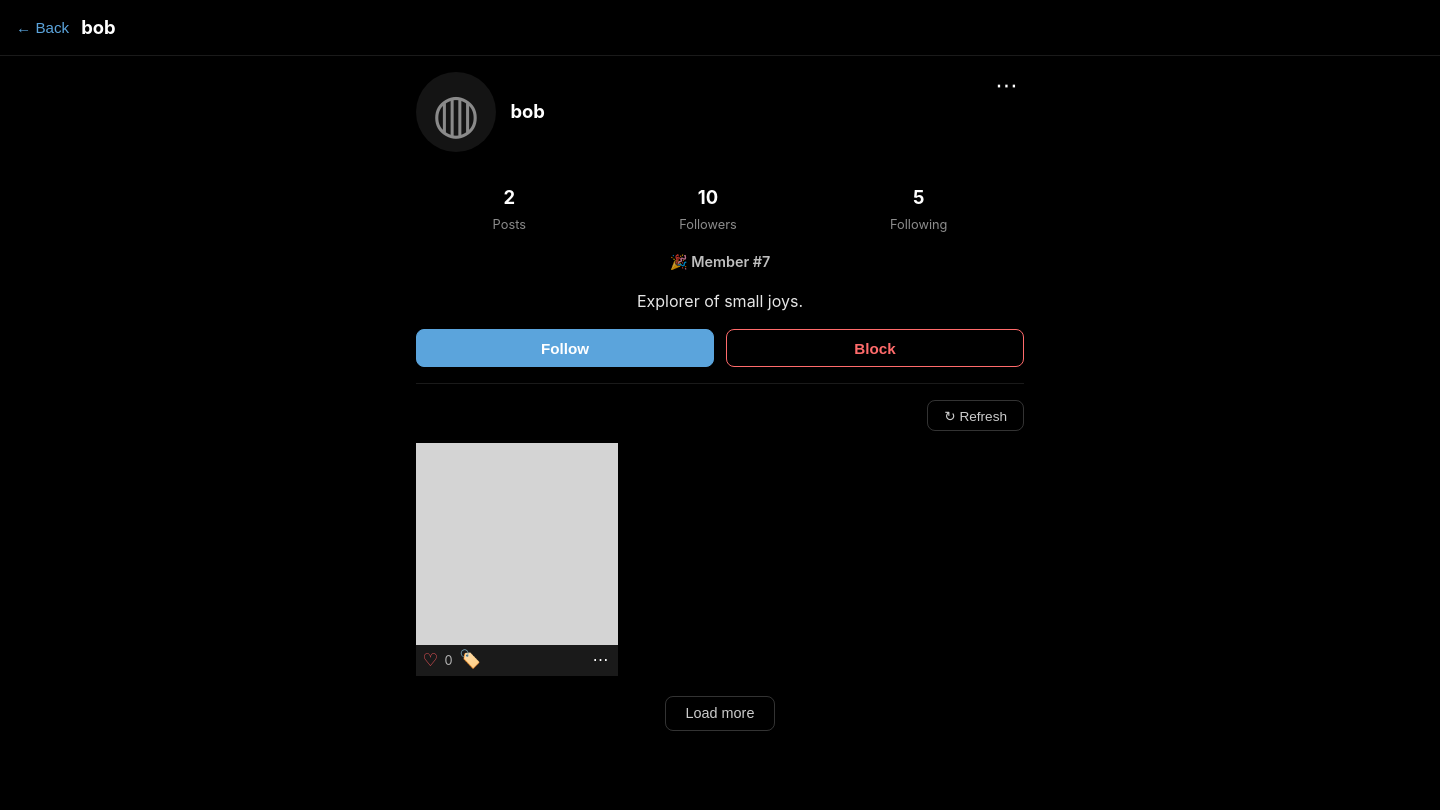
Test: reports a post from the grid
This screenshot has width=1440, height=810.
Click the button named "Options for post by bob": (600,660) x1=589 y1=652 x2=612 y2=668
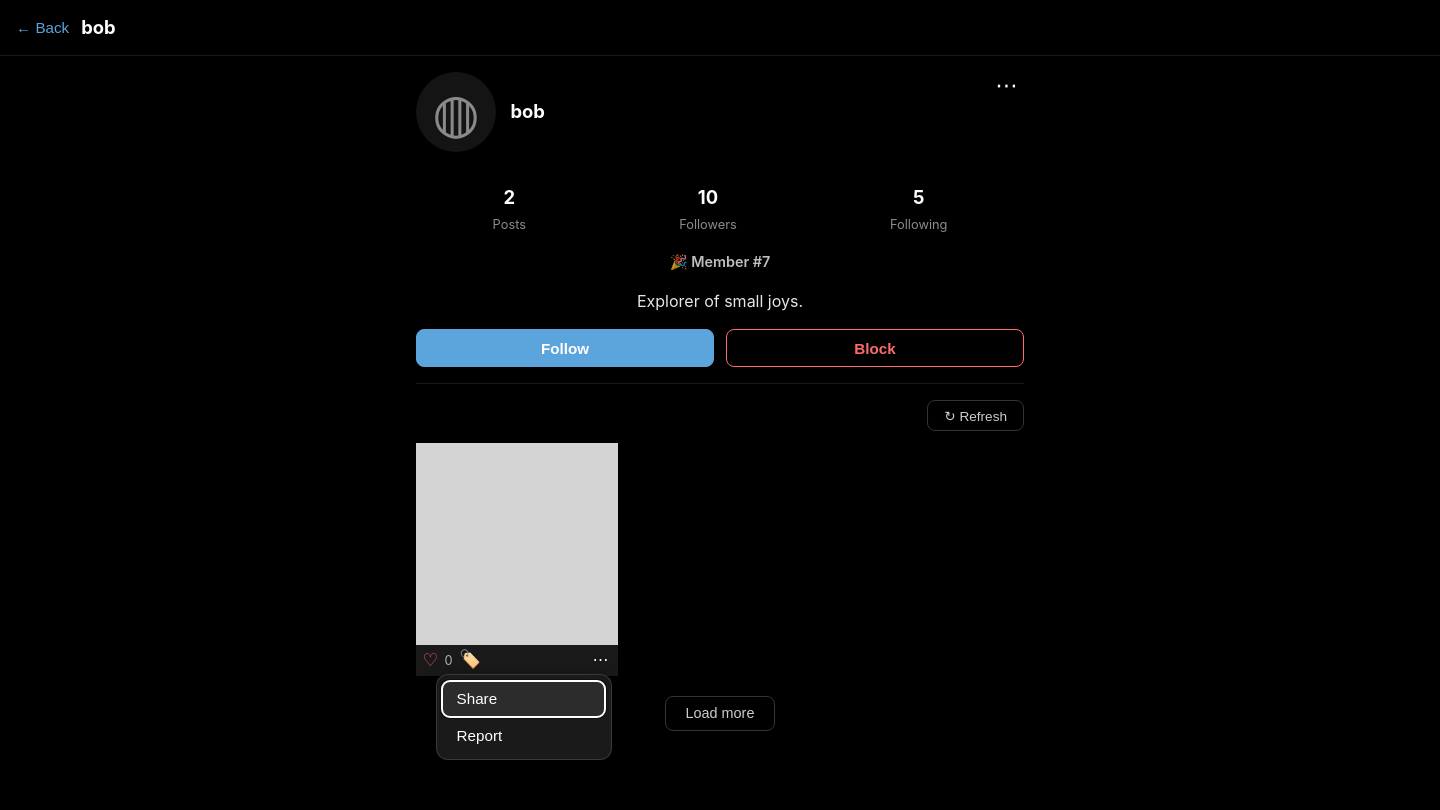
Click the menu item "Report": (524,735) x1=442 y1=717 x2=605 y2=753
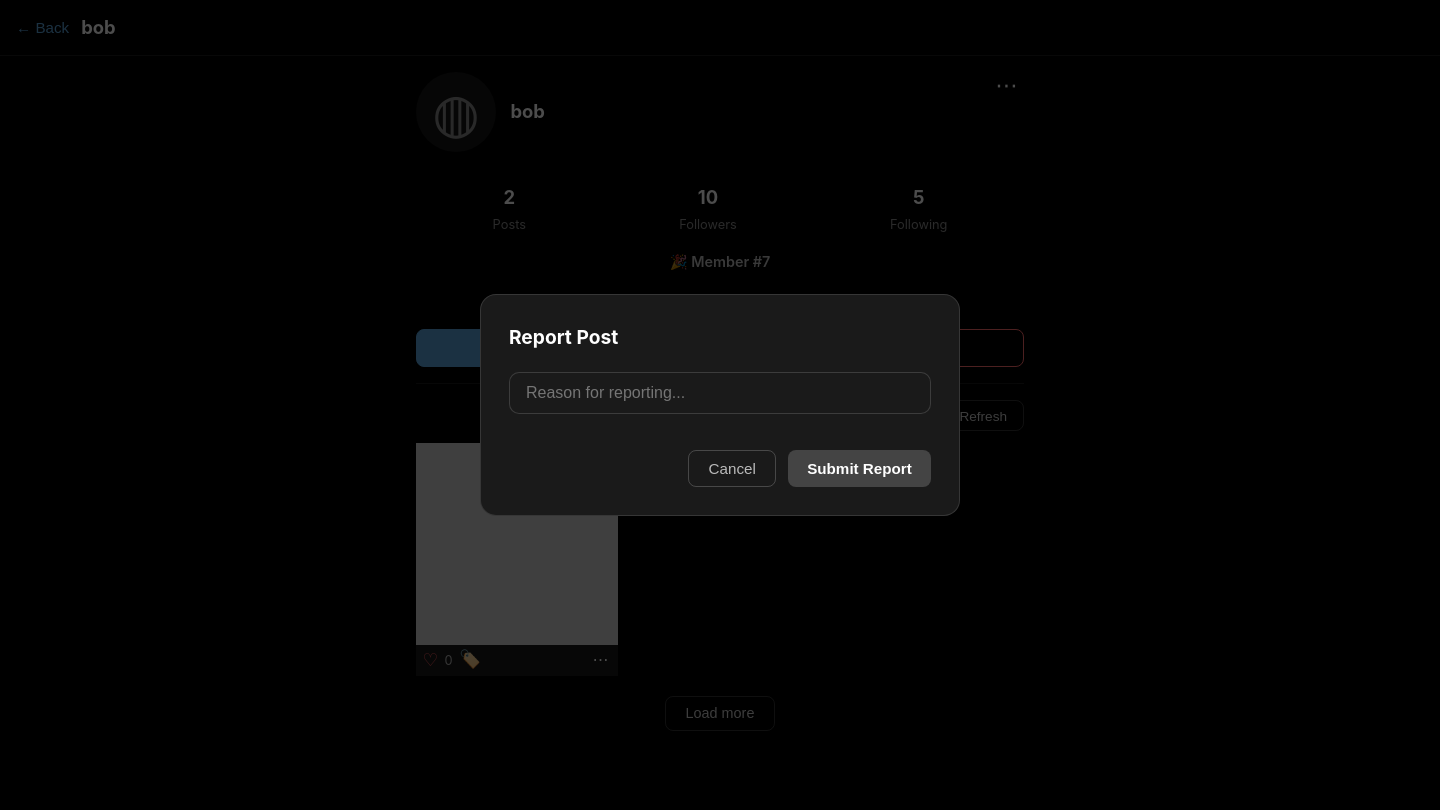
In the field labelled "Reason for reporting": (720,393) x1=509 y1=372 x2=931 y2=414, type "mean"
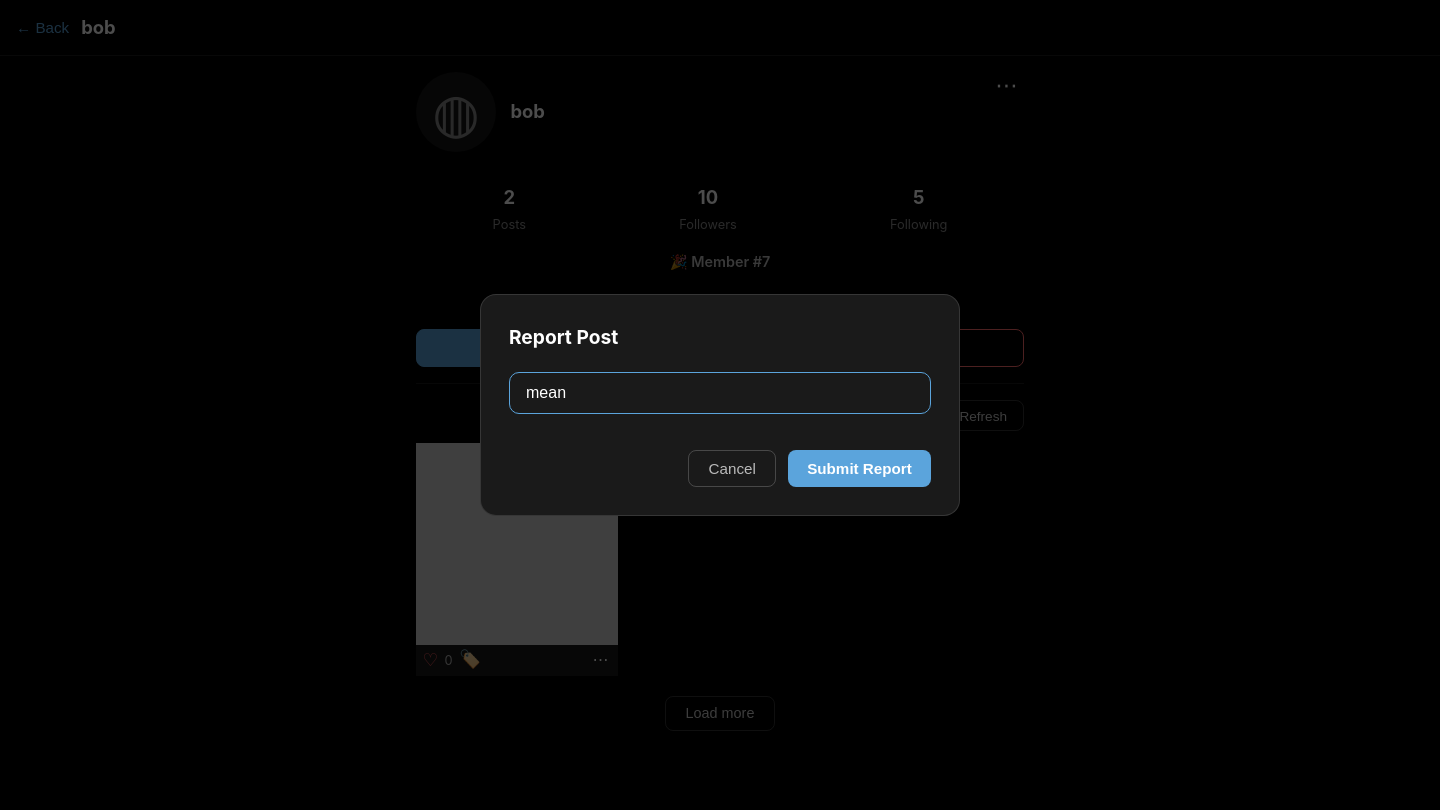
Click the button "Submit Report": (860,469) x1=788 y1=450 x2=931 y2=487
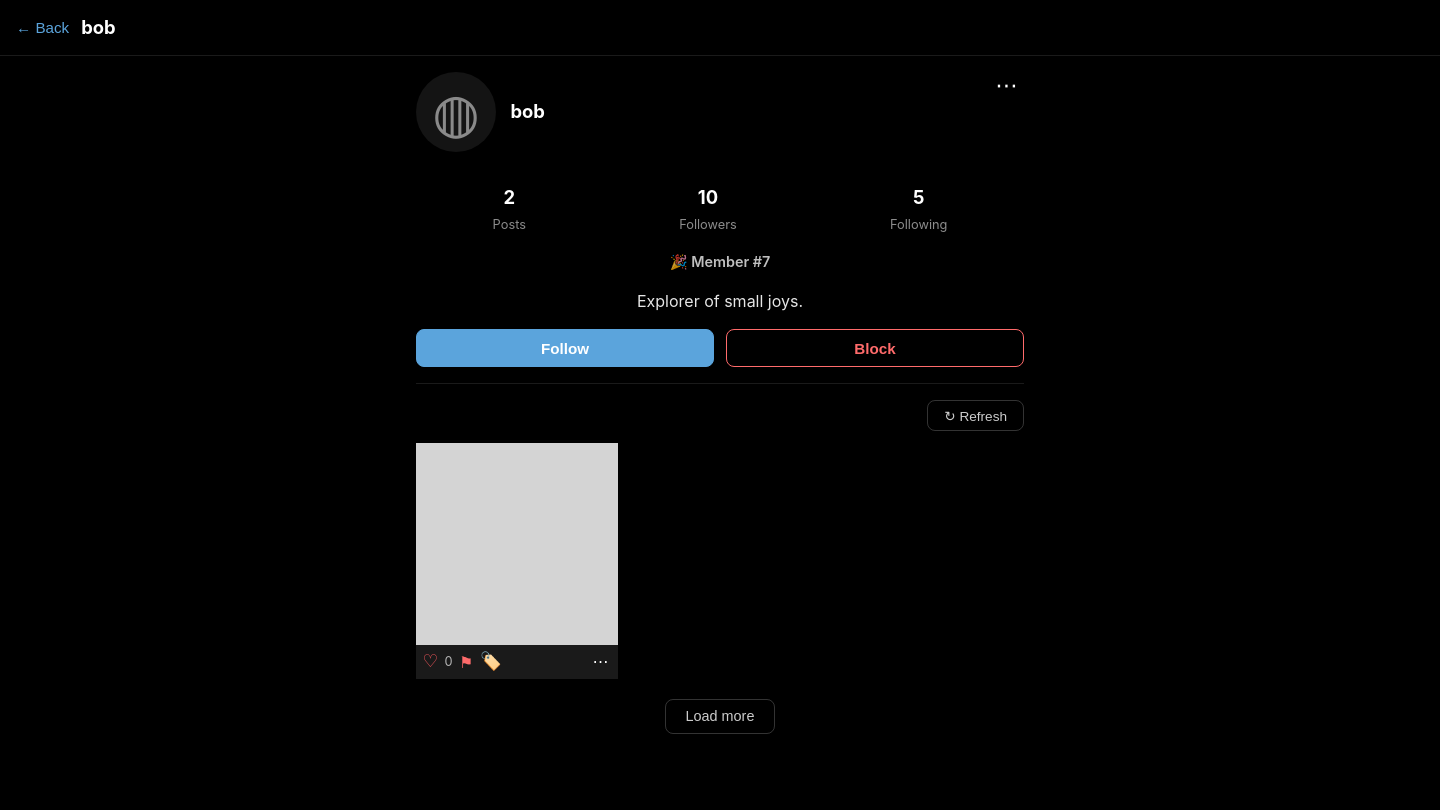
Expected: the icon named "You reported this post" is shown, x1=459 y1=650 x2=473 y2=674
